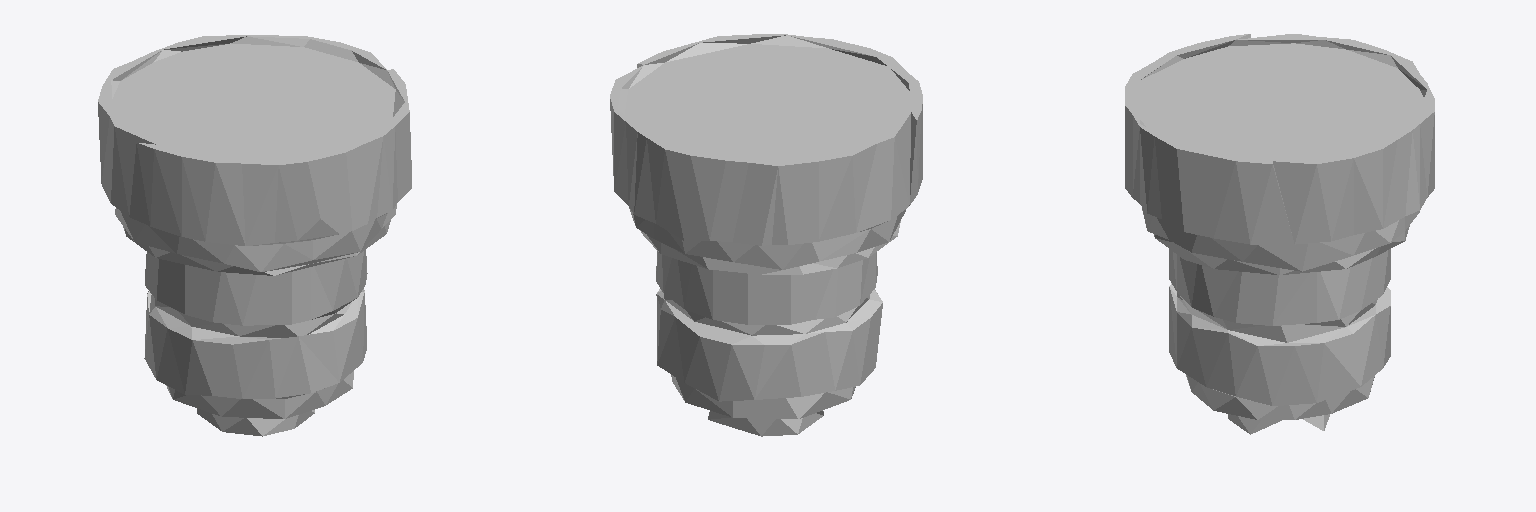
Rendered from head_camera.obj.
3 views of the same model, side by side, from view 1: azimuth 30°, elevation 25°; view 2: azimuth 150°, elevation 25°; view 3: azimuth 270°, elevation 25° (orthographic).
Bounding box in the file's own units: 0.042 × 0.047 × 0.042.